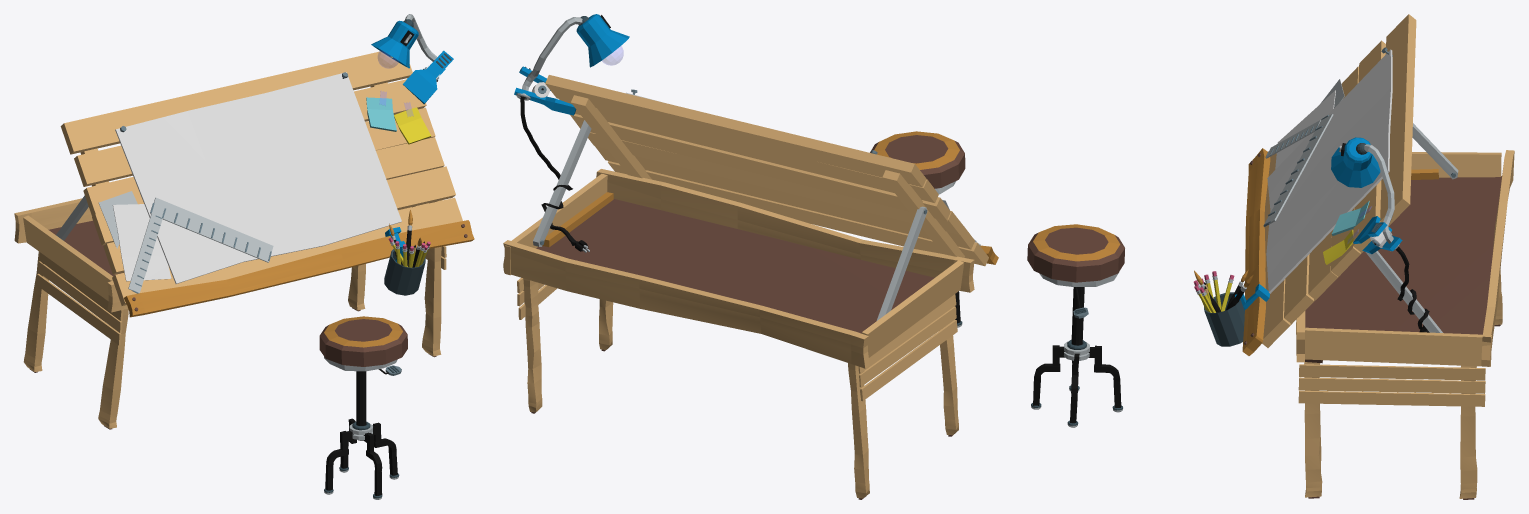
File: DraftingBoard.glb
The picture shows the model from 3 angles, left to right: view 1: azimuth 30°, elevation 25°; view 2: azimuth 150°, elevation 25°; view 3: azimuth 270°, elevation 25°; orthographic projection. The views are drawn at different scales.
Visible parts, largest first — view 1: node_MeshObject-1339436032-PolyPaper15, node_MeshObject-1621101568-PolyPaper21; view 2: node_MeshObject-1621101568-PolyPaper21, node_MeshObject-1339436032-PolyPaper15; view 3: node_MeshObject-1621101568-PolyPaper21, node_MeshObject-1339436032-PolyPaper15.
Part boxes in pixels (left/top/right/bottom): node_MeshObject-1339436032-PolyPaper15: left=60, top=51, right=462, bottom=499; node_MeshObject-1621101568-PolyPaper21: left=14, top=14, right=474, bottom=429; node_MeshObject-1621101568-PolyPaper21: left=503, top=14, right=998, bottom=499; node_MeshObject-1339436032-PolyPaper15: left=545, top=75, right=988, bottom=327; node_MeshObject-1621101568-PolyPaper21: left=1193, top=47, right=1514, bottom=499; node_MeshObject-1339436032-PolyPaper15: left=1027, top=14, right=1416, bottom=427.
Bounding box in the file's own units: 5.69 × 4.72 × 5.75.
